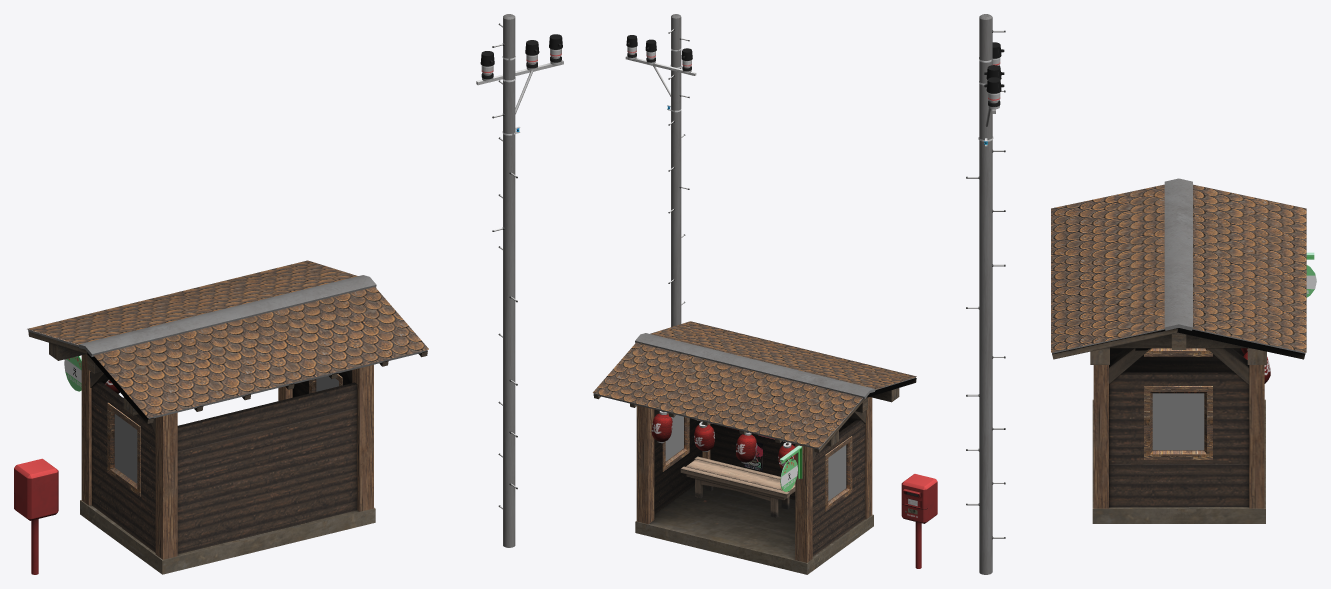
File: Busstop.fbx
3 renders of one model, left to right at view 1: azimuth 30°, elevation 25°; view 2: azimuth 150°, elevation 25°; view 3: azimuth 270°, elevation 25°, orthographic. The views are drawn at different scales.
Visible parts, largest first — view 1: Object018, Object032, Object033, Object036; view 2: Object018, Object033, Object032, Box010, Lamp, Object059, Object036; view 3: Object018, Object032, Object059, Object033, Object036, Object024, Object031, Object039.
Part boxes in pixels (x1,y1,x2,y2): Object018: [27, 260, 428, 574]; Object032: [503, 14, 515, 547]; Object033: [14, 356, 140, 574]; Object036: [480, 34, 562, 81]; Object018: [593, 321, 916, 574]; Object033: [779, 436, 937, 568]; Object032: [671, 14, 681, 326]; Box010: [680, 456, 795, 517]; Lamp: [651, 411, 795, 468]; Object059: [662, 413, 689, 471]; Object036: [626, 35, 692, 72]; Object018: [1051, 178, 1306, 523]; Object032: [979, 14, 992, 574]; Object059: [1144, 386, 1212, 459]; Object033: [1144, 252, 1316, 356]; Object036: [984, 42, 1004, 109]; Object024: [1177, 328, 1305, 359]; Object031: [1052, 328, 1178, 359]; Object039: [966, 30, 1005, 539].
Bounding box in the file's own units: 804 × 883 × 504.
5 materials, 4 textured.
